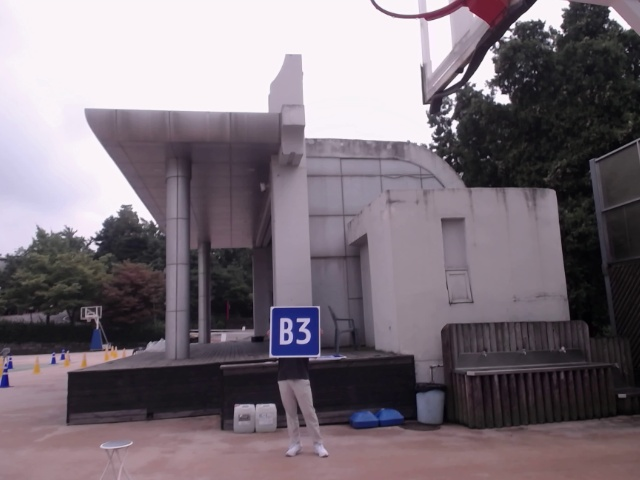delivery_b3: (270, 305, 320, 357)
